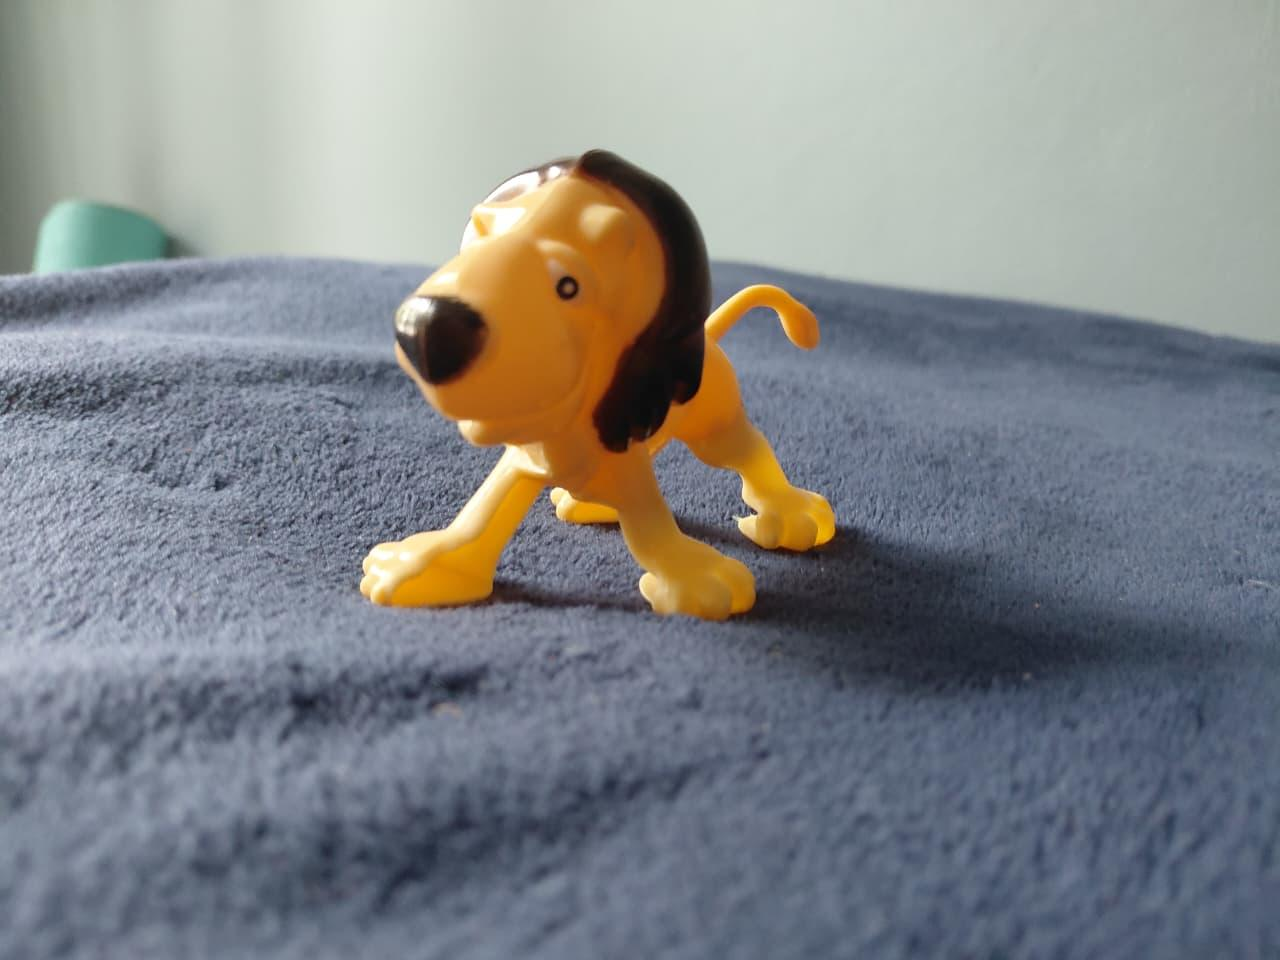lion: (344, 126, 847, 624)
